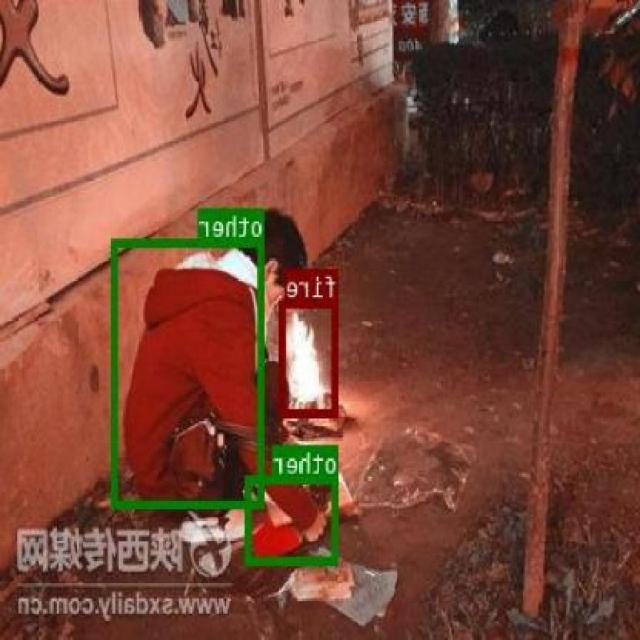Fire: (280, 298, 340, 416)
